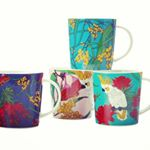cups: (65, 16, 134, 72), (1, 71, 63, 130), (91, 68, 150, 126)
